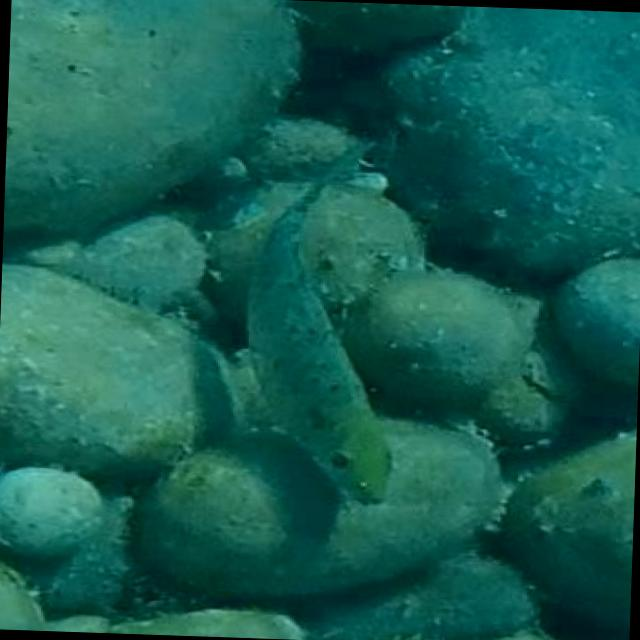Sokar Baligi: (218, 120, 430, 512)
